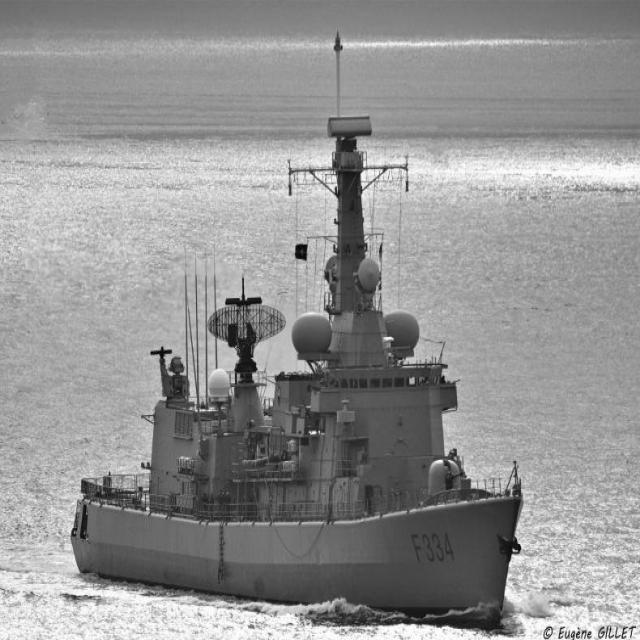Fragata: (68, 26, 524, 622)
